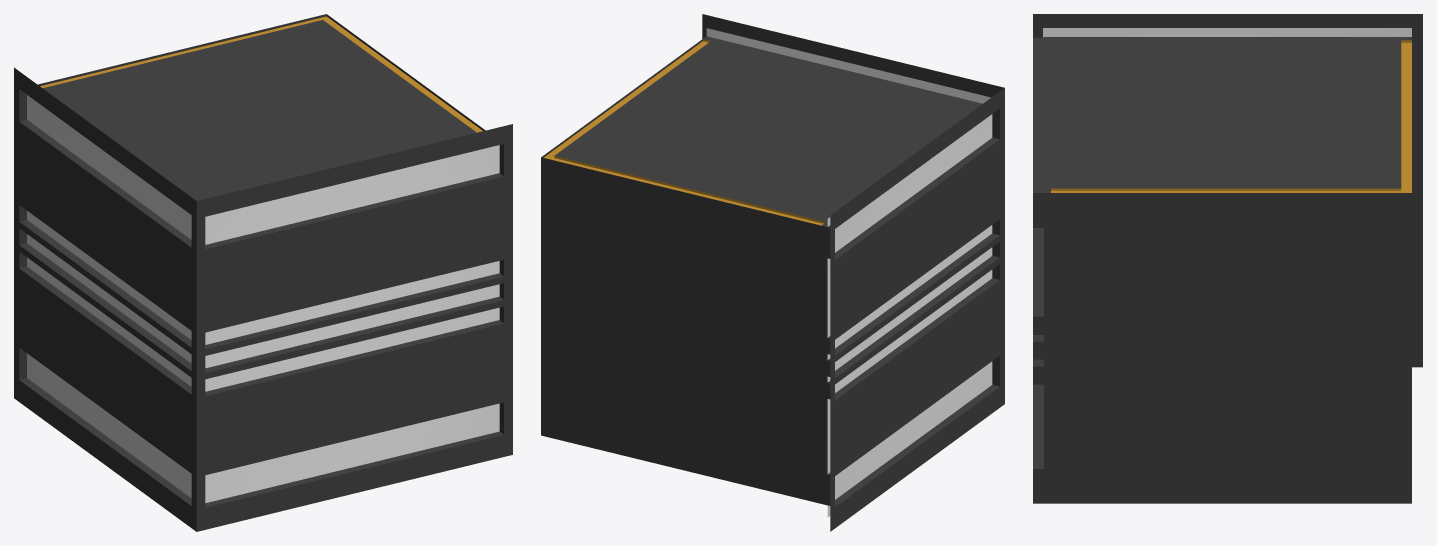
The model's file is Wall_35_Corner.FBX.
The picture shows the model from 3 angles, left to right: view 1: azimuth 30°, elevation 25°; view 2: azimuth 150°, elevation 25°; view 3: azimuth 270°, elevation 25°; orthographic projection. The views are drawn at different scales.
Parts seen in each view (by area): view 1: Wall_35_Corner_LOD0; view 2: Wall_35_Corner_LOD0; view 3: Wall_35_Corner_LOD0.
Part boxes in pixels (<box>): Wall_35_Corner_LOD0: <box>14,14,512,531</box>; Wall_35_Corner_LOD0: <box>541,14,1004,531</box>; Wall_35_Corner_LOD0: <box>1033,14,1422,503</box>.
Size of what is drawn, in the model's own units: 180 by 180 by 180.
